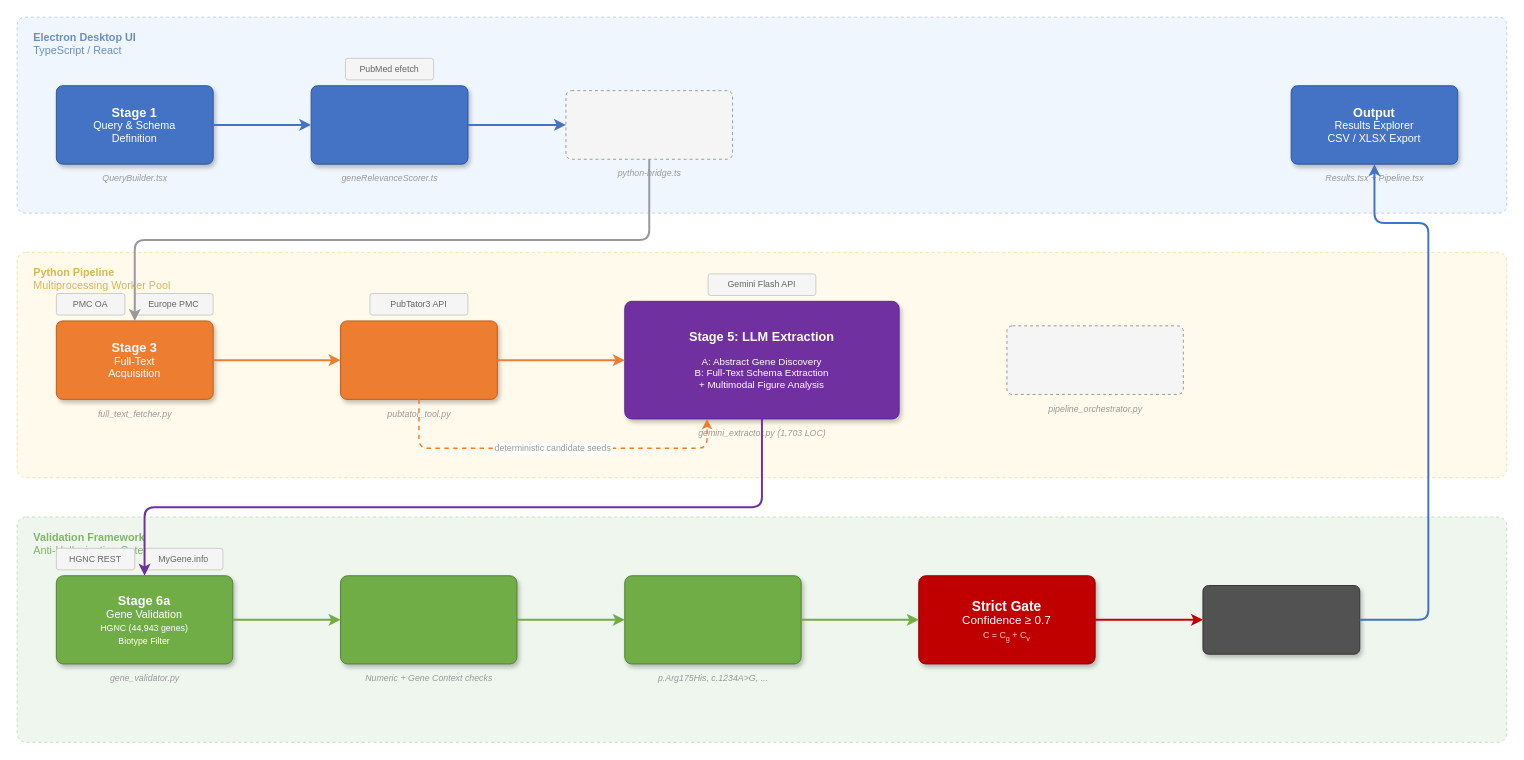
This 1524x760 diagram has some shape labels left out. The shapes that lost their labels are listed below. From the top down, each one's centre as x and y in pixels, then its label:
At pixel 390 126: "Stage 2 Gene Relevance Scoring".
At pixel 649 124: "IPC Bridge PROGRESS | LOG | RESULT".
At pixel 419 361: "Stage 4 PubTator3 NER precision floor".
At pixel 1094 359: "Orchestrator Worker Pool (2–4) 600s per-paper timeout".
At pixel 429 621: "Stage 6b Citation Cross-Reference SequenceMatcher ≥ 0.85".
At pixel 713 621: "Stage 6c Variant Matching 12+ HGVS patterns".
At pixel 1282 621: "CSV Output Deduplicated, ranked Validation metadata".
